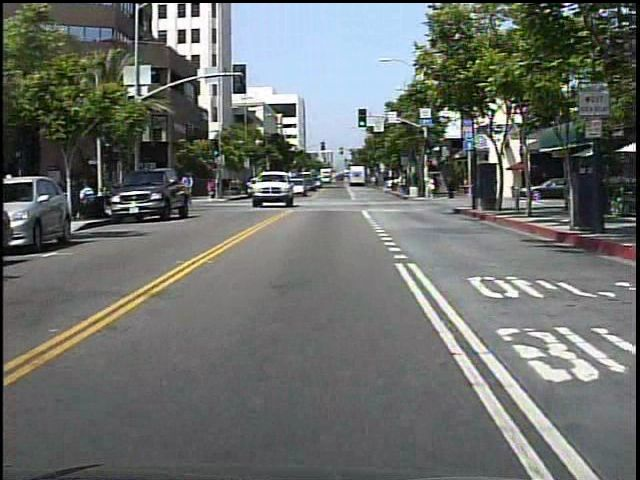person: (179, 170, 200, 203), (446, 171, 460, 204), (427, 177, 439, 200), (208, 176, 218, 200)
